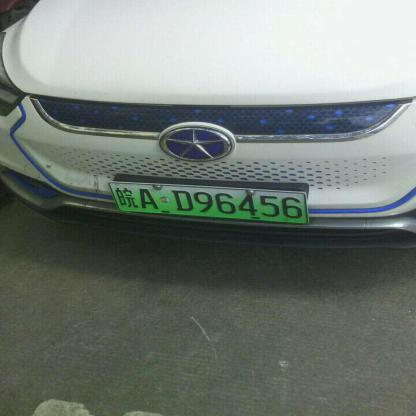lp: (107, 182, 307, 223)
